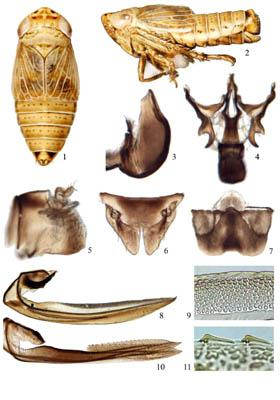Cicadellidae: (99, 4, 262, 82), (13, 7, 81, 165)
